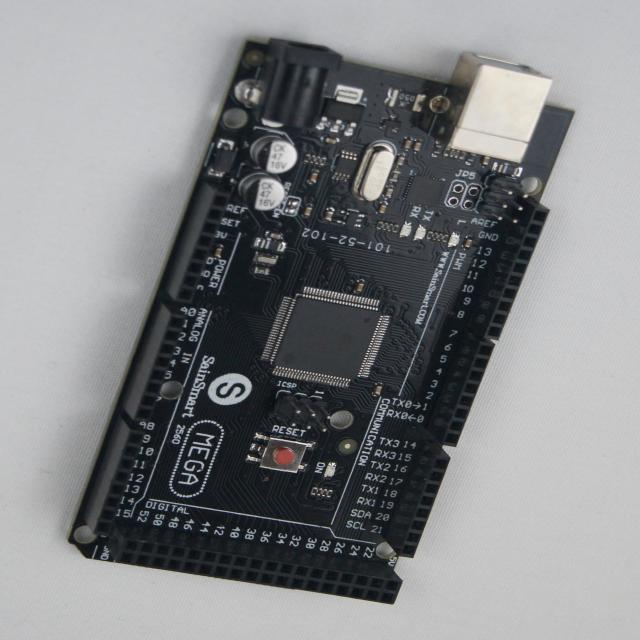Arduino Mega 2560 -Black-: (70, 40, 573, 604)
